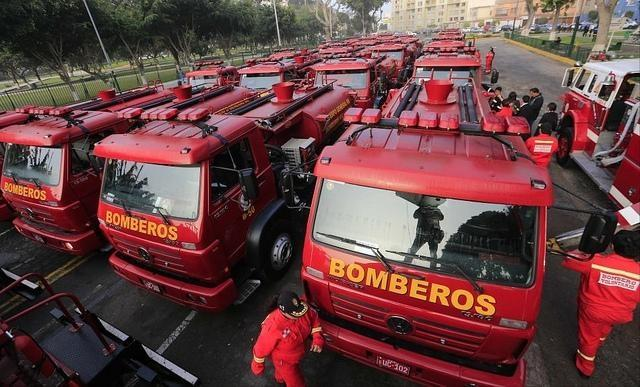truck: (293, 75, 554, 381), (94, 66, 358, 309), (1, 86, 171, 256), (556, 53, 640, 210), (307, 56, 398, 105), (236, 56, 314, 90), (371, 43, 416, 95), (186, 60, 251, 94), (413, 54, 482, 82), (427, 37, 475, 48), (317, 48, 354, 58), (351, 40, 376, 46), (364, 36, 376, 40)
